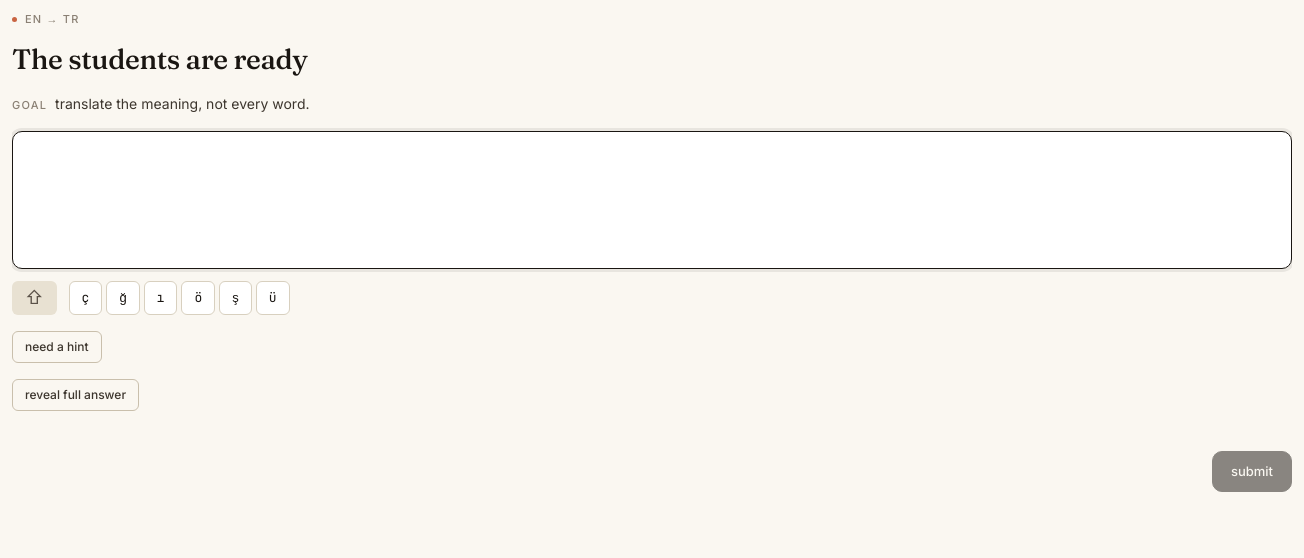
it: TranslationExercise › word hints › fetches once on "need a hint" and reveals a lemma on word click
Click the button "need a hint" at x=57, y=347, box [12,331,102,363]
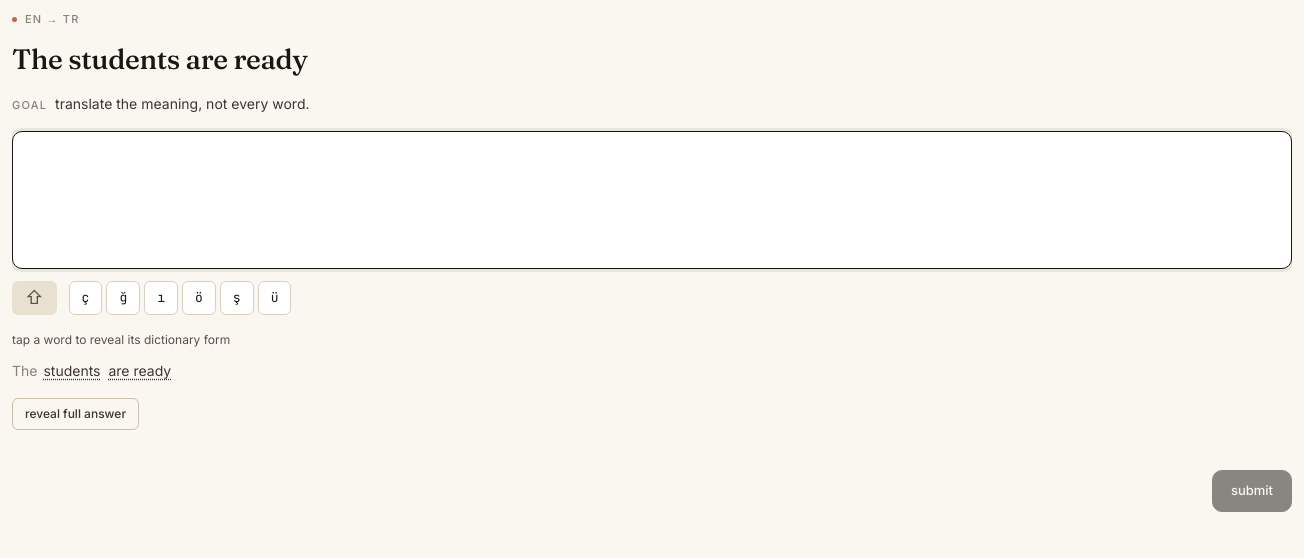
Click the button "students" at x=72, y=371, box [41,360,102,382]
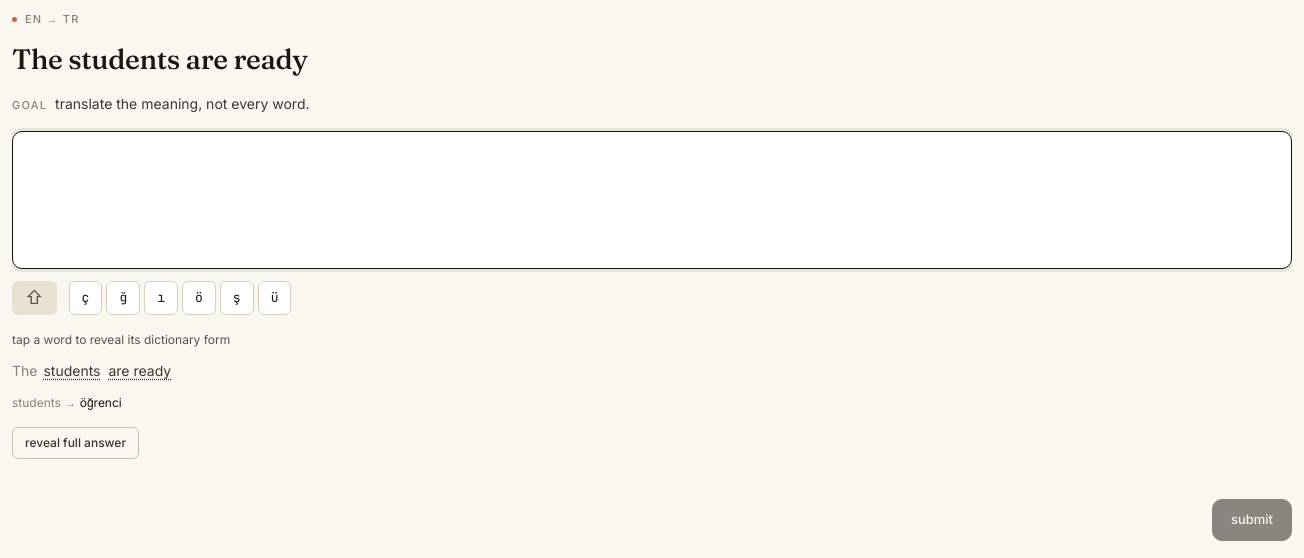
Expected: the text "öğrenci" is shown, [80,395,122,410]
